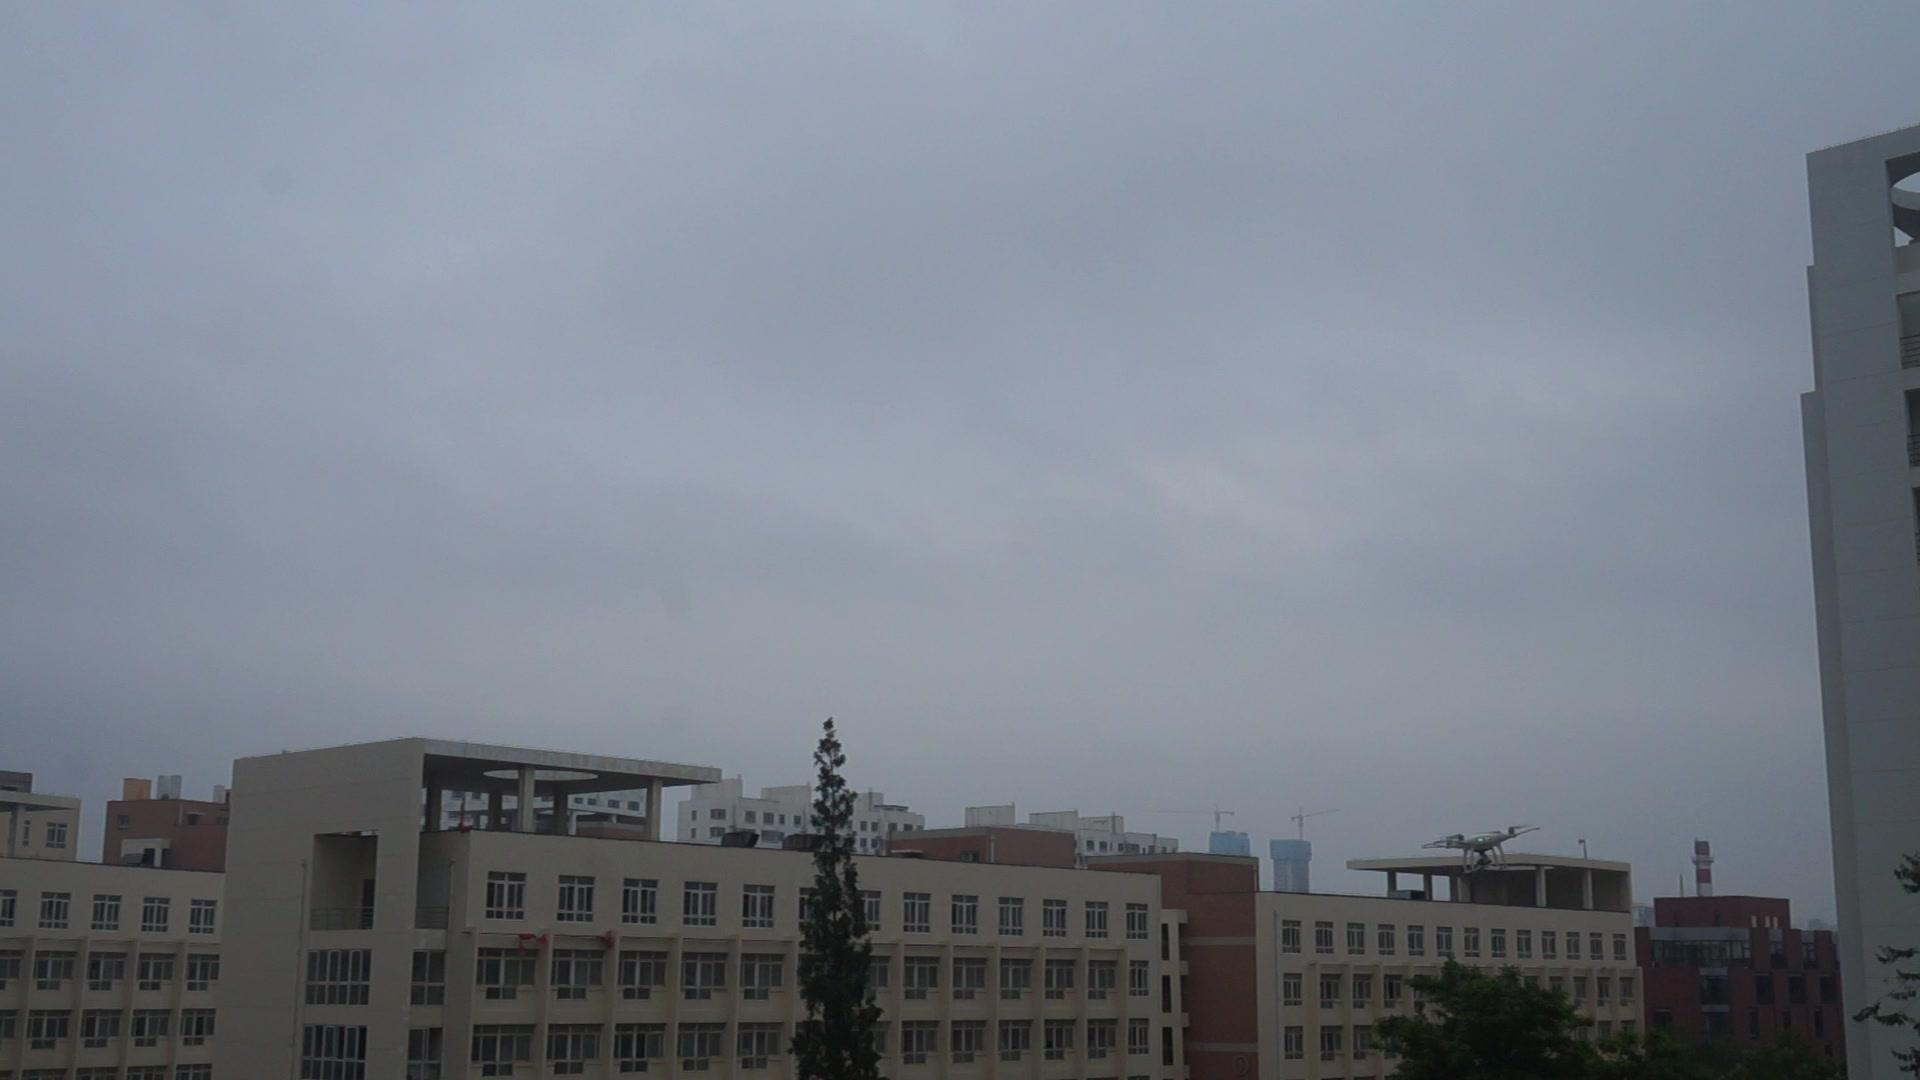UAV: (1422, 825, 1542, 876)
